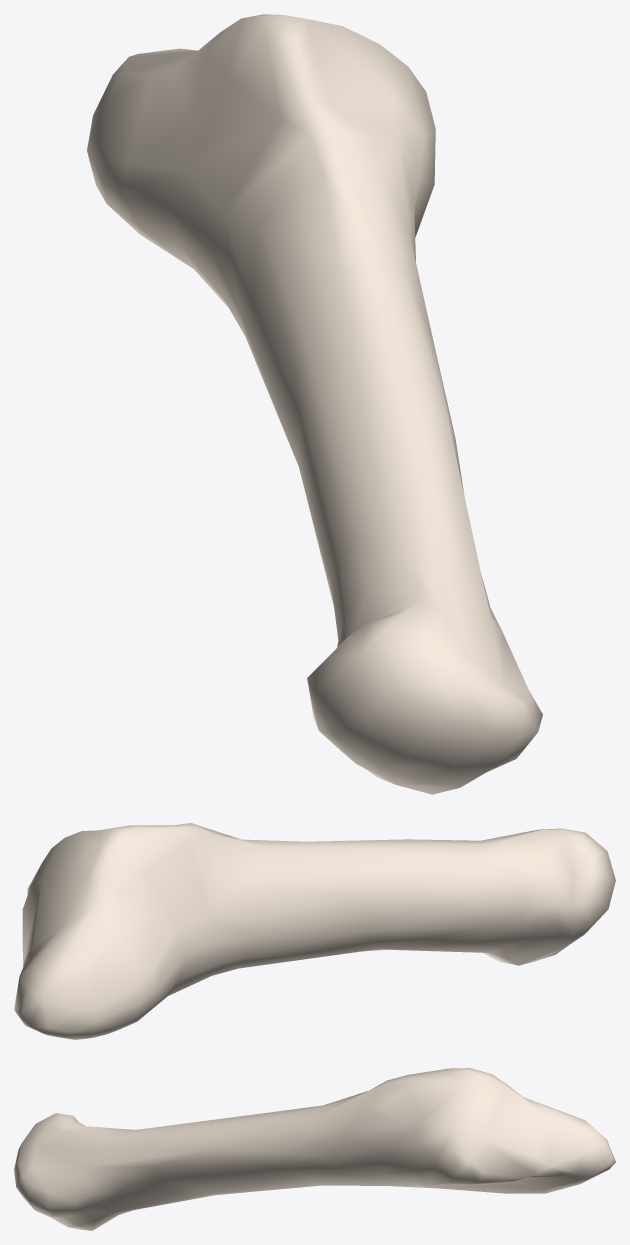
File: right_metatarsal_5.glb
The picture shows the model from 3 angles, top to bottom: view 1: azimuth 30°, elevation 25°; view 2: azimuth 150°, elevation 25°; view 3: azimuth 270°, elevation 25°; orthographic projection. The views are drawn at different scales.
Visible parts, largest first — view 1: Fifth metatarsal bone.r; view 2: Fifth metatarsal bone.r; view 3: Fifth metatarsal bone.r.
Part boxes in pixels (x1=…): Fifth metatarsal bone.r: x1=87, y1=14, x2=542, y2=794; Fifth metatarsal bone.r: x1=14, y1=823, x2=615, y2=1039; Fifth metatarsal bone.r: x1=14, y1=1068, x2=615, y2=1230.
Size of the model in its own units: 0.0274 by 0.0225 by 0.0571.
